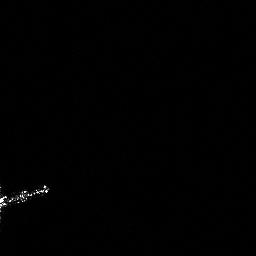ship: (1, 183, 51, 213)
